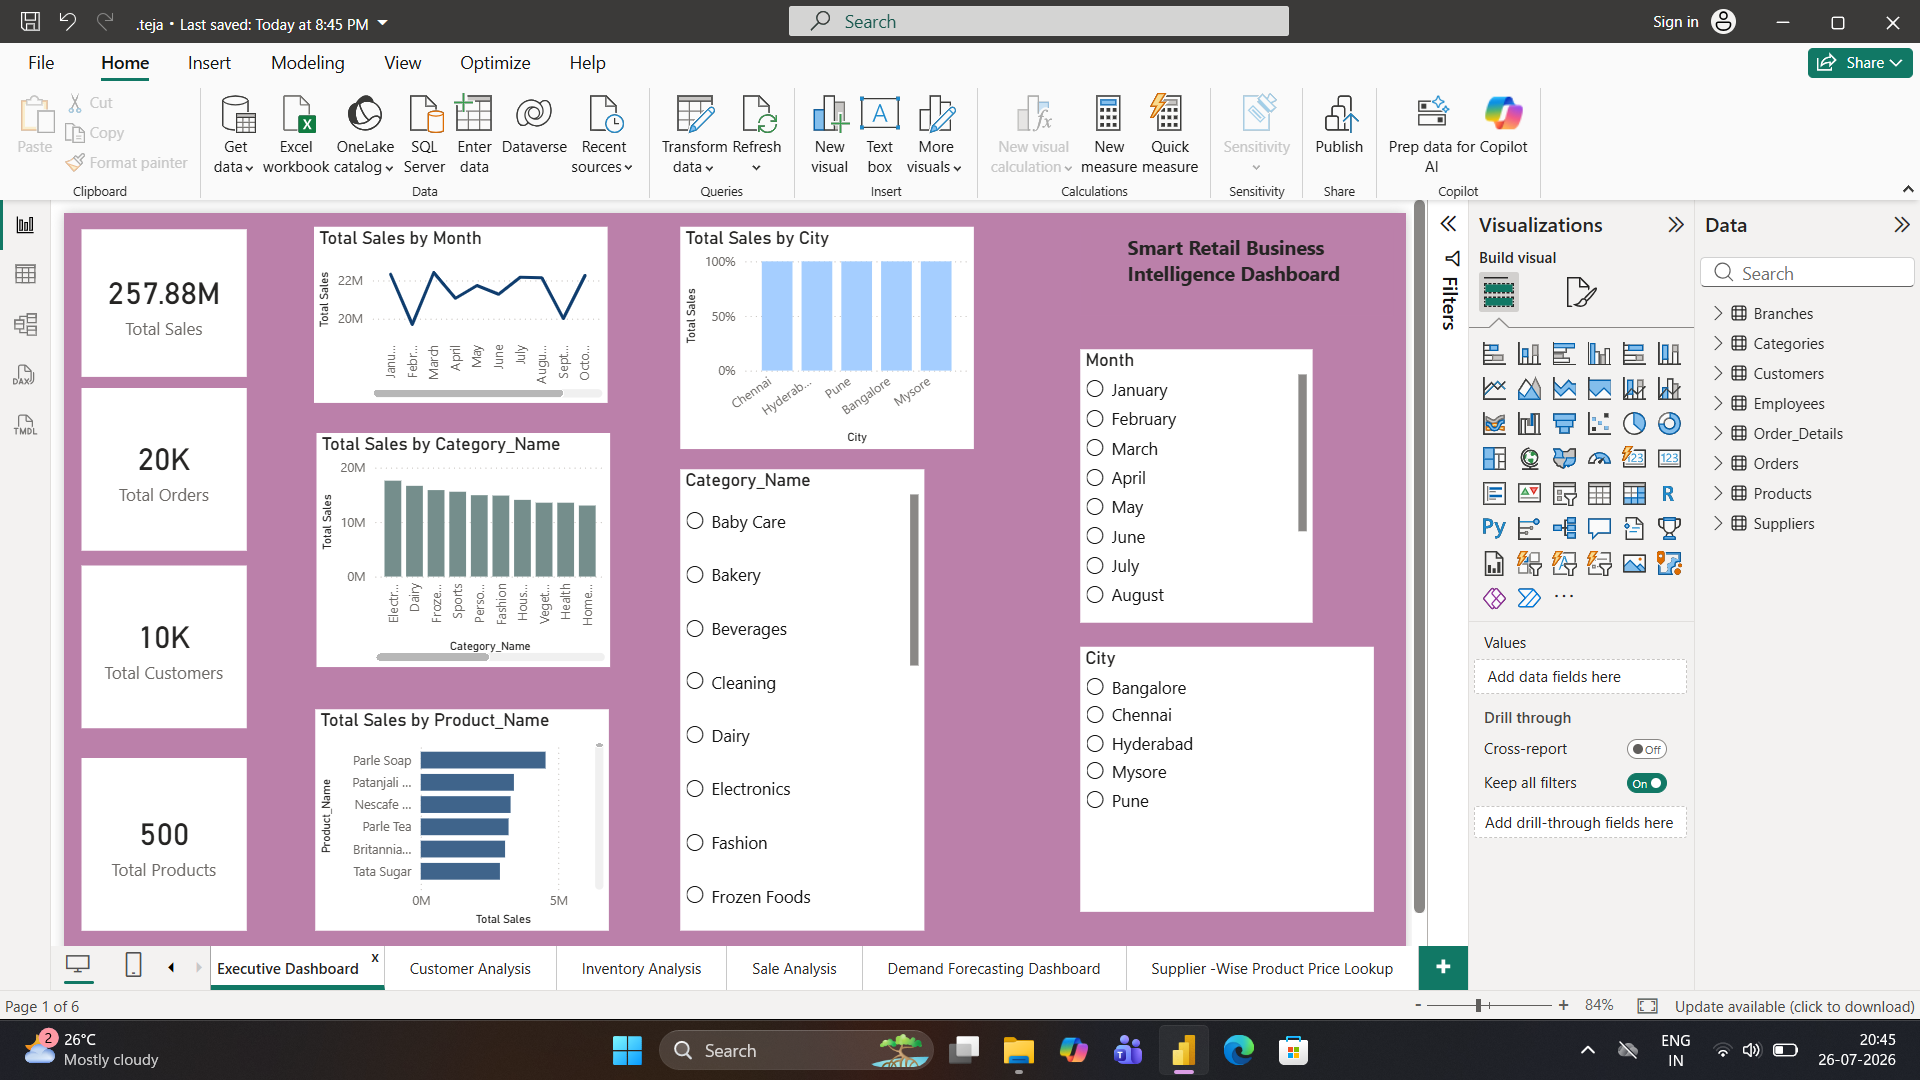

What the dashboard file says about the page in this screenshot:
{"tool":"powerbi","page":{"name":"Executive Dashboard","canvas":[1280,720],"ordinal":0},"visuals":[{"type":"card","fields":{"Values":["Order_Details.Total Sales"]},"box":[16.7,15.5,157.3,140.7],"z":0},{"type":"card","fields":{"Values":["Order_Details.Total Orders"]},"box":[16.7,166.9,157.3,155],"z":1000},{"type":"card","fields":{"Values":["Order_Details.Total Customers"]},"box":[16.7,336.2,157.3,155],"z":2000},{"type":"card","fields":{"Values":["Products.Total Products"]},"box":[16.7,519.7,157.3,164.5],"z":3000},{"type":"clusteredColumnChart","fields":{"Category":["Categories.Category_Name"],"Y":["Order_Details.Total Sales"]},"box":[240.8,209.8,280.1,222.9],"z":4000},{"type":"clusteredBarChart","fields":{"Y":["Order_Details.Total Sales"],"Category":["Products.Product_Name"]},"box":[239.6,473.2,280.1,211],"z":5000},{"type":"hundredPercentStackedColumnChart","fields":{"Category":["Branches.City"],"Y":["Order_Details.Total Sales"]},"box":[587.7,13.1,280.1,212.2],"z":6000},{"type":"listSlicer","fields":{"Values":["Orders.Month"]},"box":[969.1,129.9,221.7,261.1],"z":7000},{"type":"listSlicer","fields":{"Values":["Categories.Category_Name"]},"box":[587.7,244.4,232.4,439.9],"z":8000},{"type":"listSlicer","fields":{"Values":["Branches.City"]},"box":[969.1,413.6,280.1,252.7],"z":9000},{"type":"textbox","box":[969.1,15.5,298,82.2],"z":10000},{"type":"lineChart","fields":{"Category":["Orders.Month"],"Y":["Order_Details.Total Sales"]},"box":[238.4,13.1,280.1,168.1],"z":11000}]}

Visuals, with their boxes on the page's 1280x720 design canvas (x1, y1, x2, y2). These are canvas units, not pixel positions in the 1920x1080 screenshot, which may show the page scaled, cropped or inside an application window:
card - Order_Details.Total Sales: 17,16,174,156
card - Order_Details.Total Orders: 17,167,174,322
card - Order_Details.Total Customers: 17,336,174,491
card - Products.Total Products: 17,520,174,684
clusteredColumnChart - Categories.Category_Name x Order_Details.Total Sales: 241,210,521,433
clusteredBarChart - Order_Details.Total Sales x Products.Product_Name: 240,473,520,684
hundredPercentStackedColumnChart - Branches.City x Order_Details.Total Sales: 588,13,868,225
listSlicer - Orders.Month: 969,130,1191,391
listSlicer - Categories.Category_Name: 588,244,820,684
listSlicer - Branches.City: 969,414,1249,666
textbox: 969,16,1267,98
lineChart - Orders.Month x Order_Details.Total Sales: 238,13,518,181
